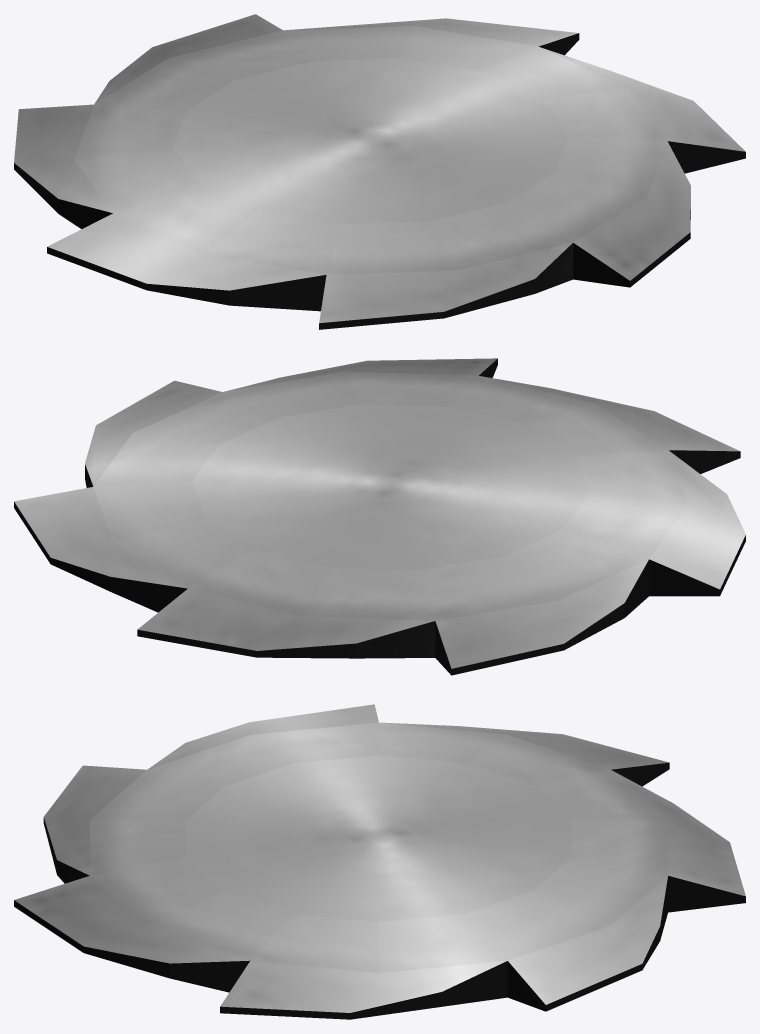
The model's file is saw.glb.
3 renders of one model, top to bottom at view 1: azimuth 30°, elevation 25°; view 2: azimuth 150°, elevation 25°; view 3: azimuth 270°, elevation 25°, orthographic.
Visible parts, largest first — view 1: 7; view 2: 7; view 3: 7.
Boxes of the visible parts, x1=… form: 7: x1=14, y1=14, x2=745, y2=329; 7: x1=14, y1=358, x2=745, y2=675; 7: x1=14, y1=704, x2=745, y2=1019.
Bounding box in the file's own units: 3.16 × 0.286 × 3.17.
Materials: 1 (1 with a texture image).
